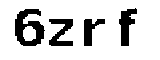6: (10, 5, 46, 50)
f: (114, 3, 142, 52)
r: (81, 13, 108, 53)
z: (46, 16, 76, 52)
